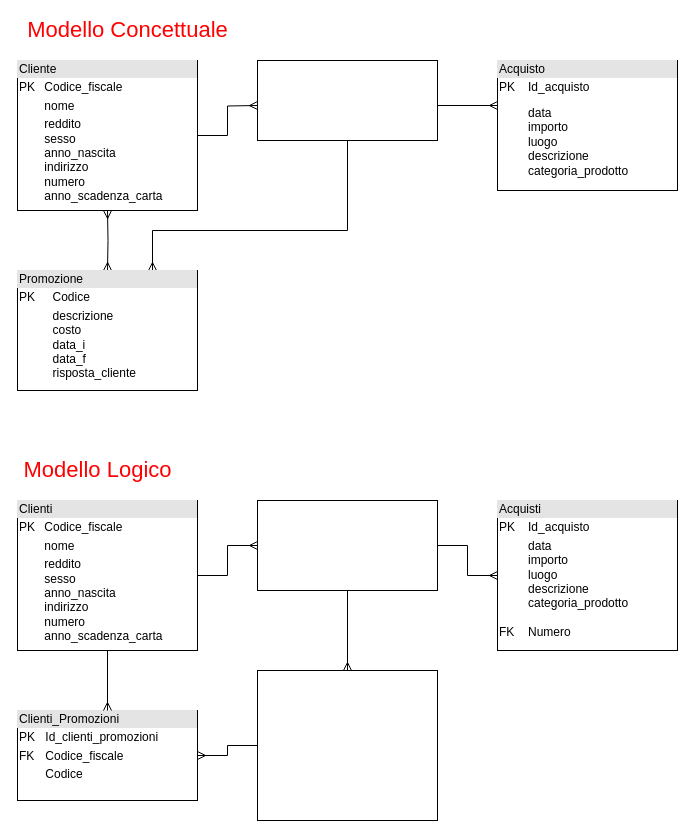
This 695x838 diagram has some shape labels left out. The box of each missing label's shape, as (x1, y1, x2, y2) in pixels:
Estratti_conto PK Numero FK data totale_spese Codice_fiscale: (256, 500, 438, 590)
Estratto_conto PK Numero data totale_spese: (256, 60, 438, 140)
Promozioni PK Codice FK descrizione costo data_i data_f risposta_cliente Numero: (256, 670, 438, 820)
